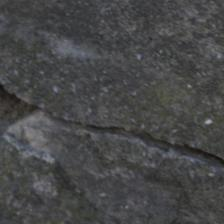Crack: (6, 84, 218, 166)
